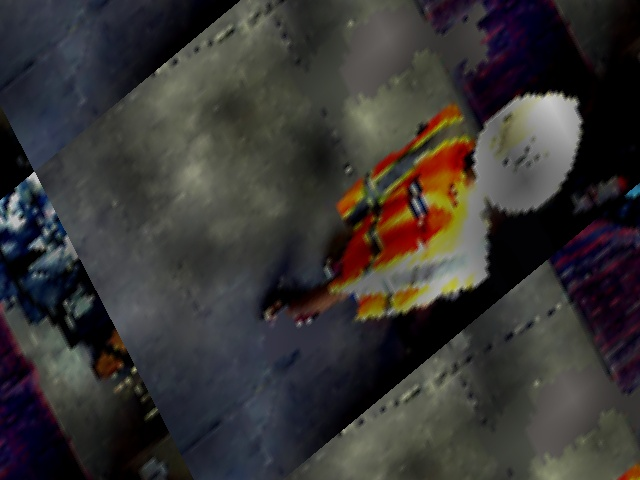eight: (500, 125, 554, 190)
